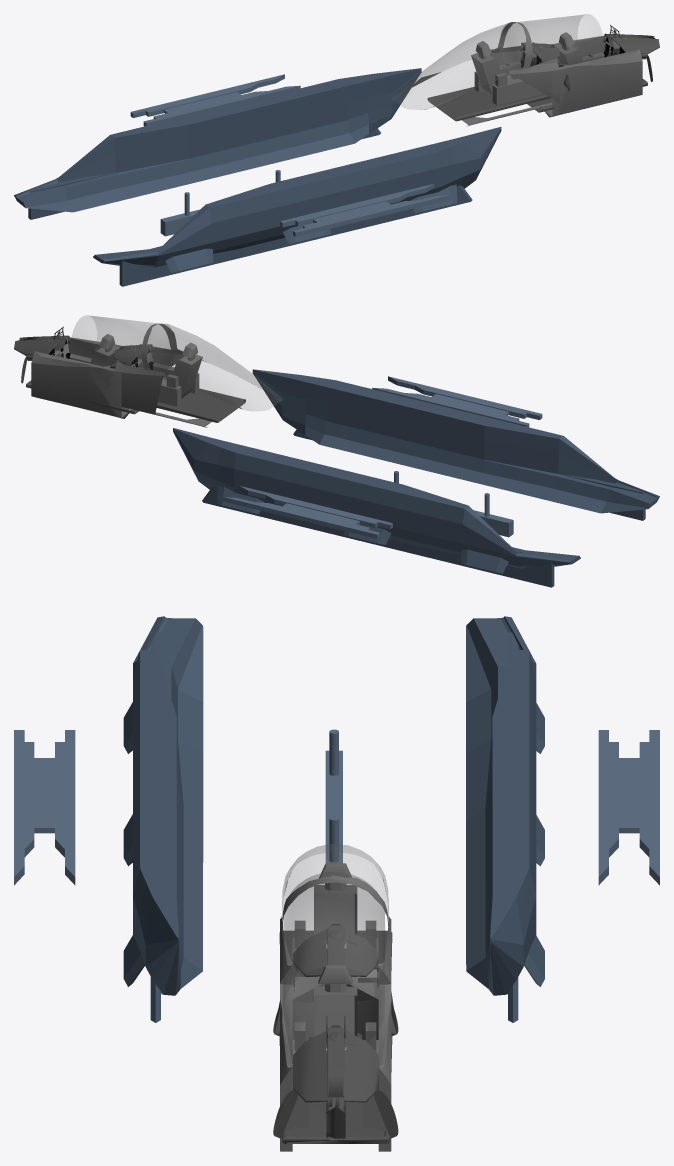
3 renders of one model, top to bottom at view 1: azimuth 30°, elevation 25°; view 2: azimuth 150°, elevation 25°; view 3: azimuth 270°, elevation 25°, orthographic. The views are drawn at different scales.
Visible parts, largest first — view 1: 立方体.024, 円柱, 立方体.015, 立方体.014, 立方体.005, 立方体.002, 立方体.017, 円柱.004, 立方体.020, 立方体.019, 立方体.018; view 2: 立方体.015, 円柱, 立方体.024, 立方体.002, 立方体.020, 立方体.005, 立方体.016, 円柱.004, 立方体.014, 立方体.027; view 3: 円柱, 立方体.024, 立方体.015, 立方体.002, 立方体.005, 円柱.004.
Part boxes in pixels (left/top/right/bottom): 立方体.024: left=14, top=68, right=421, bottom=212; 円柱: left=391, top=14, right=659, bottom=126; 立方体.015: left=93, top=127, right=501, bottom=267; 立方体.014: left=119, top=185, right=472, bottom=286; 立方体.005: left=280, top=184, right=450, bottom=236; 立方体.002: left=130, top=74, right=300, bottom=126; 立方体.017: left=165, top=248, right=213, bottom=272; 円柱.004: left=160, top=170, right=280, bottom=236; 立方体.020: left=28, top=128, right=380, bottom=219; 立方体.019: left=411, top=184, right=457, bottom=213; 立方体.018: left=283, top=222, right=330, bottom=244; 立方体.015: left=252, top=369, right=659, bottom=513; 円柱: left=14, top=315, right=282, bottom=427; 立方体.024: left=173, top=428, right=580, bottom=568; 立方体.002: left=223, top=485, right=392, bottom=538; 立方体.020: left=202, top=486, right=554, bottom=587; 立方体.005: left=372, top=376, right=542, bottom=427; 立方体.016: left=461, top=549, right=508, bottom=573; 円柱.004: left=394, top=471, right=513, bottom=537; 立方体.014: left=293, top=429, right=645, bottom=520; 立方体.027: left=217, top=485, right=264, bottom=514; 円柱: left=273, top=844, right=398, bottom=1151; 立方体.024: left=466, top=616, right=536, bottom=995; 立方体.015: left=133, top=616, right=203, bottom=995; 立方体.002: left=598, top=730, right=659, bottom=885; 立方体.005: left=14, top=730, right=75, bottom=885; 円柱.004: left=325, top=729, right=342, bottom=863.
Bounding box in the file's own units: 12.28 × 2.45 × 5.88.
